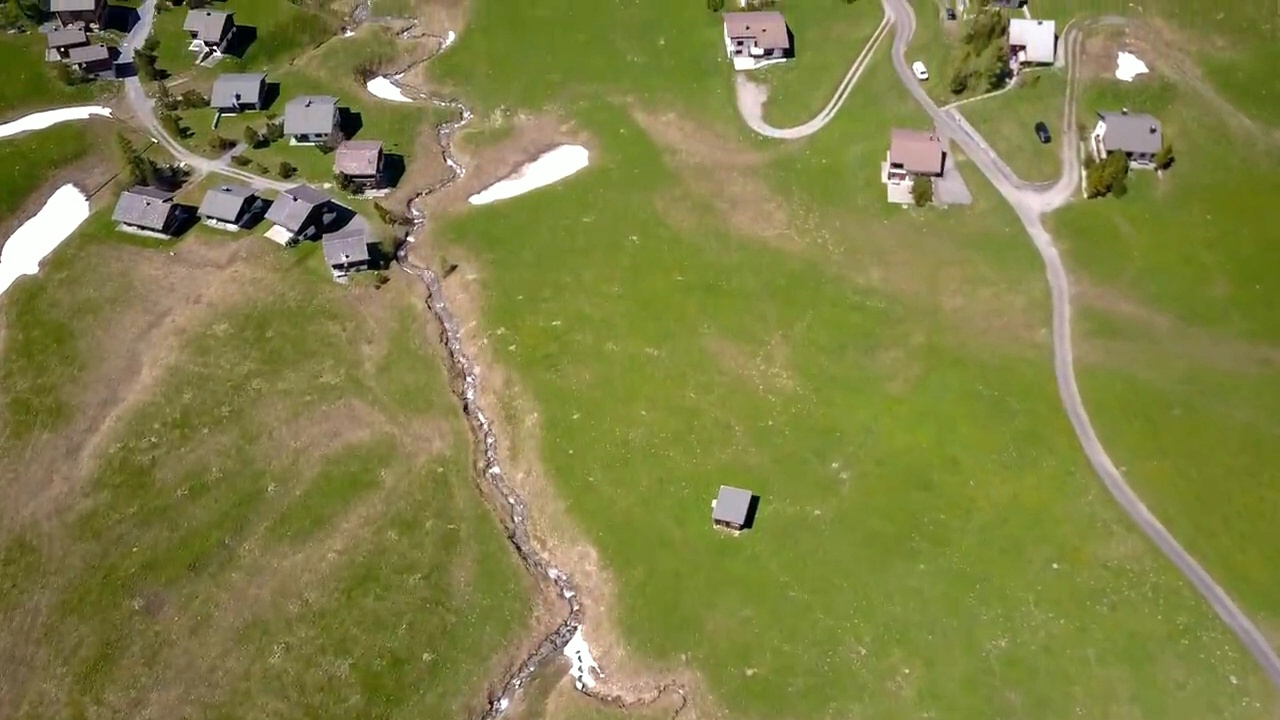araba: (910, 60, 934, 83), (1035, 117, 1052, 147)
